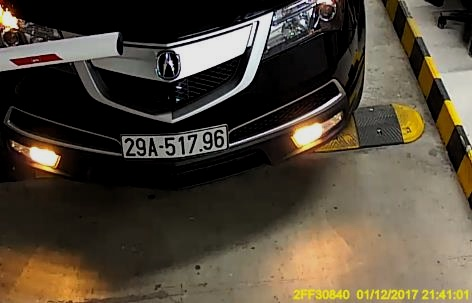plate: (121, 127, 229, 157)
